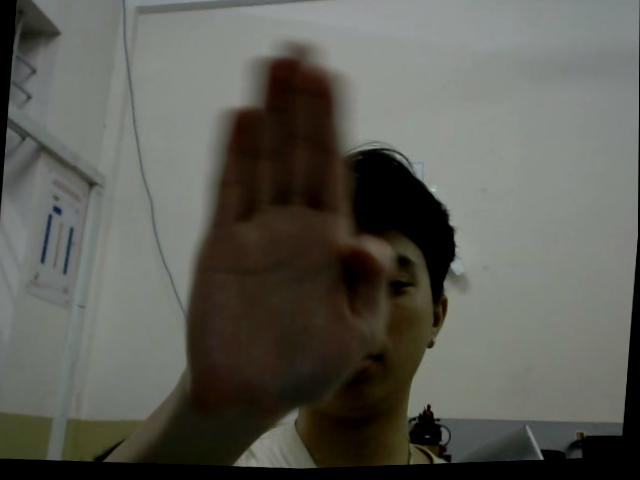B: (181, 49, 402, 415)
